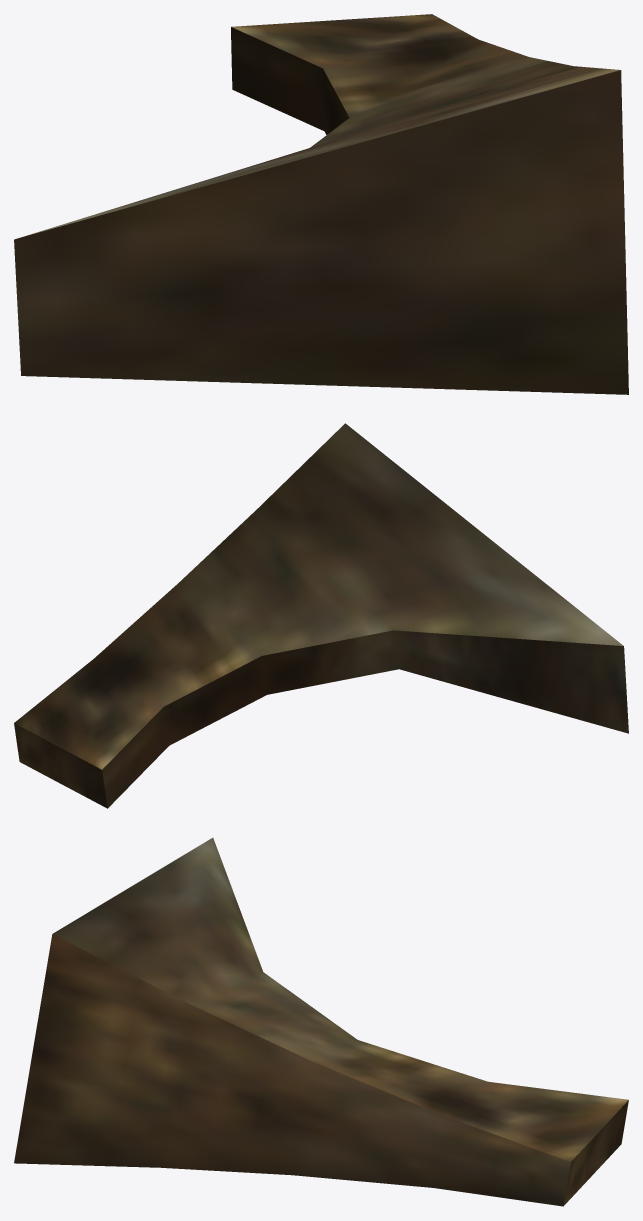
The picture shows the model from 3 angles, top to bottom: view 1: azimuth 30°, elevation 25°; view 2: azimuth 150°, elevation 25°; view 3: azimuth 270°, elevation 25°; orthographic projection. The views are drawn at different scales.
Visible parts, largest first — view 1: wj51; view 2: wj51; view 3: wj51.
Boxes of the visible parts, <box> form: wj51: <box>14,14,628,394</box>; wj51: <box>14,423,628,808</box>; wj51: <box>14,837,628,1206</box>.
Bounding box in the file's own units: 282 × 126 × 298.
